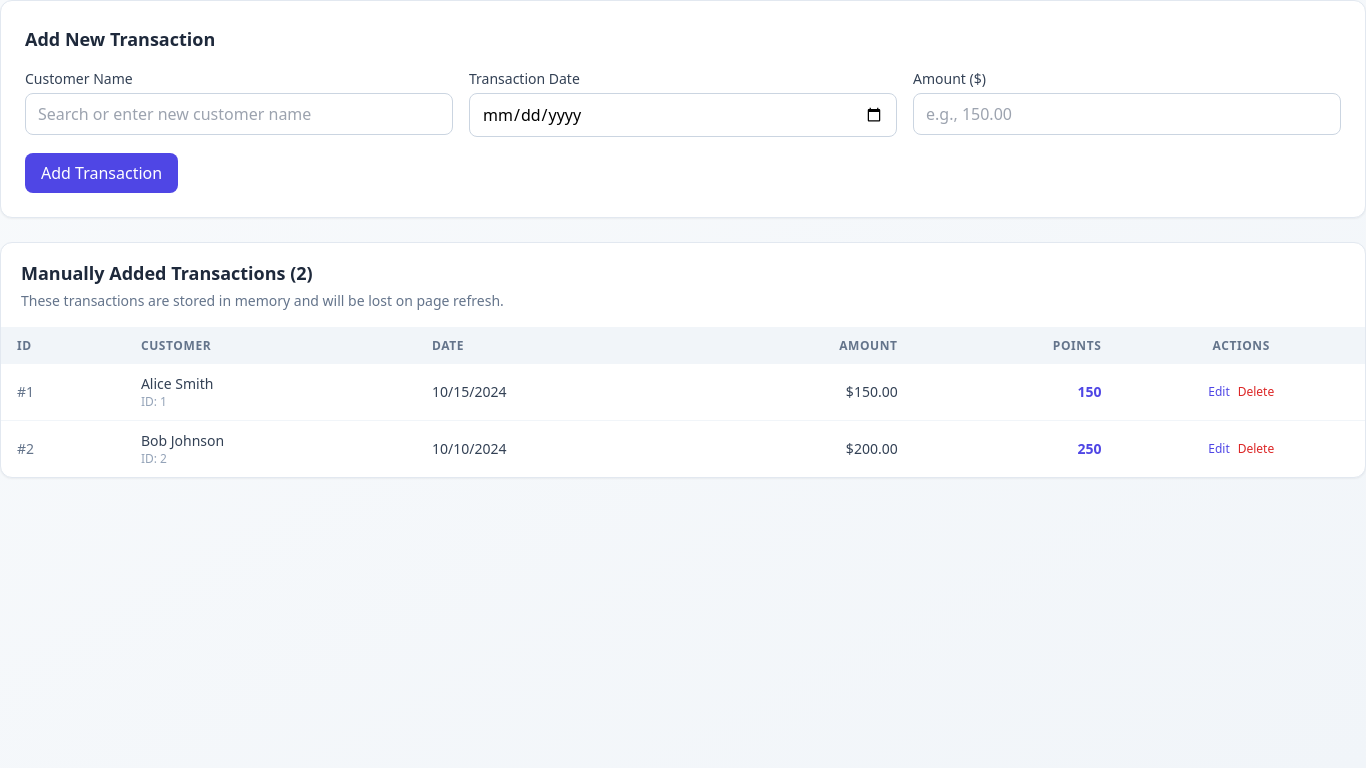
Test: Admin › deleting transactions › cancels edit mode when the edited transaction is deleted
Click the button with aria-label "Edit transaction 1": [1219, 392] box [1208, 384, 1230, 400]
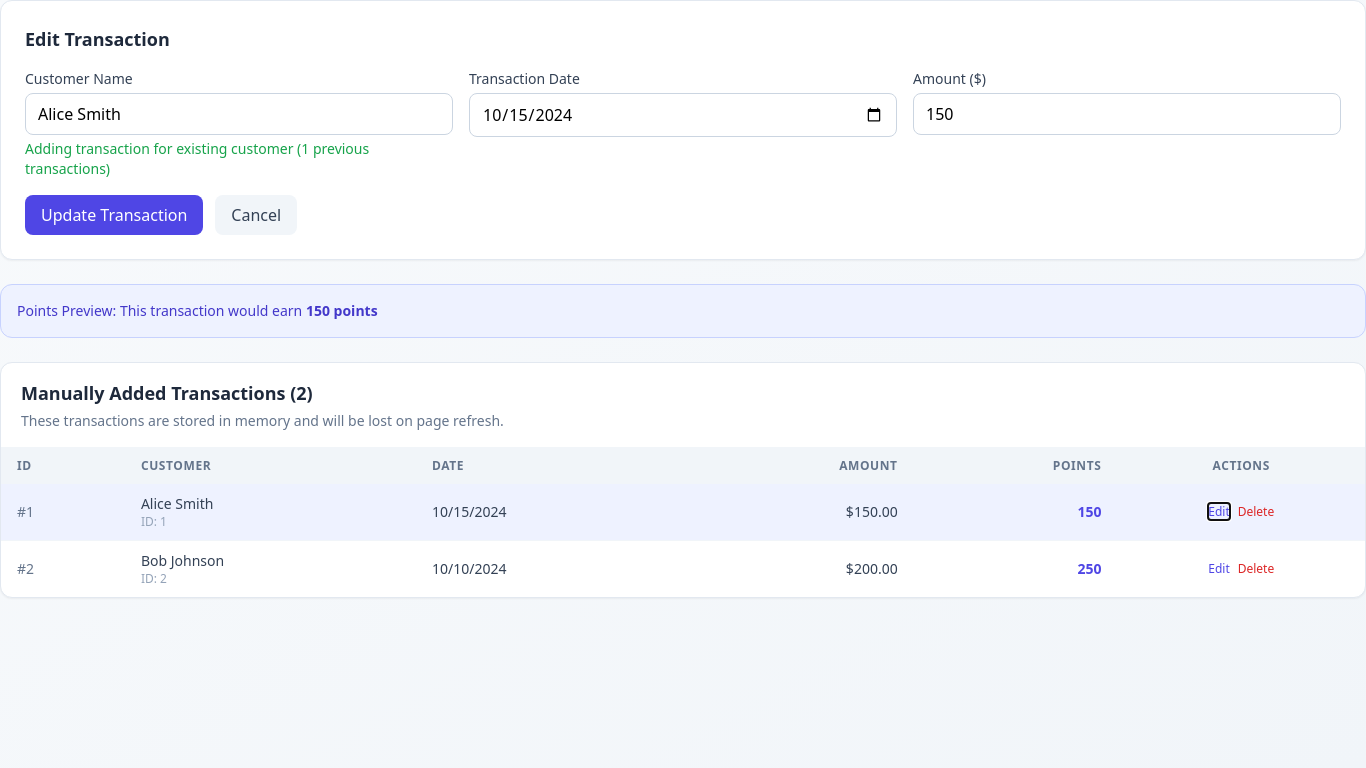
Expected: the heading "Edit Transaction" is shown, [25, 27, 170, 51]
Click the button with aria-label "Delete transaction 1": [1256, 512] box [1238, 504, 1274, 520]
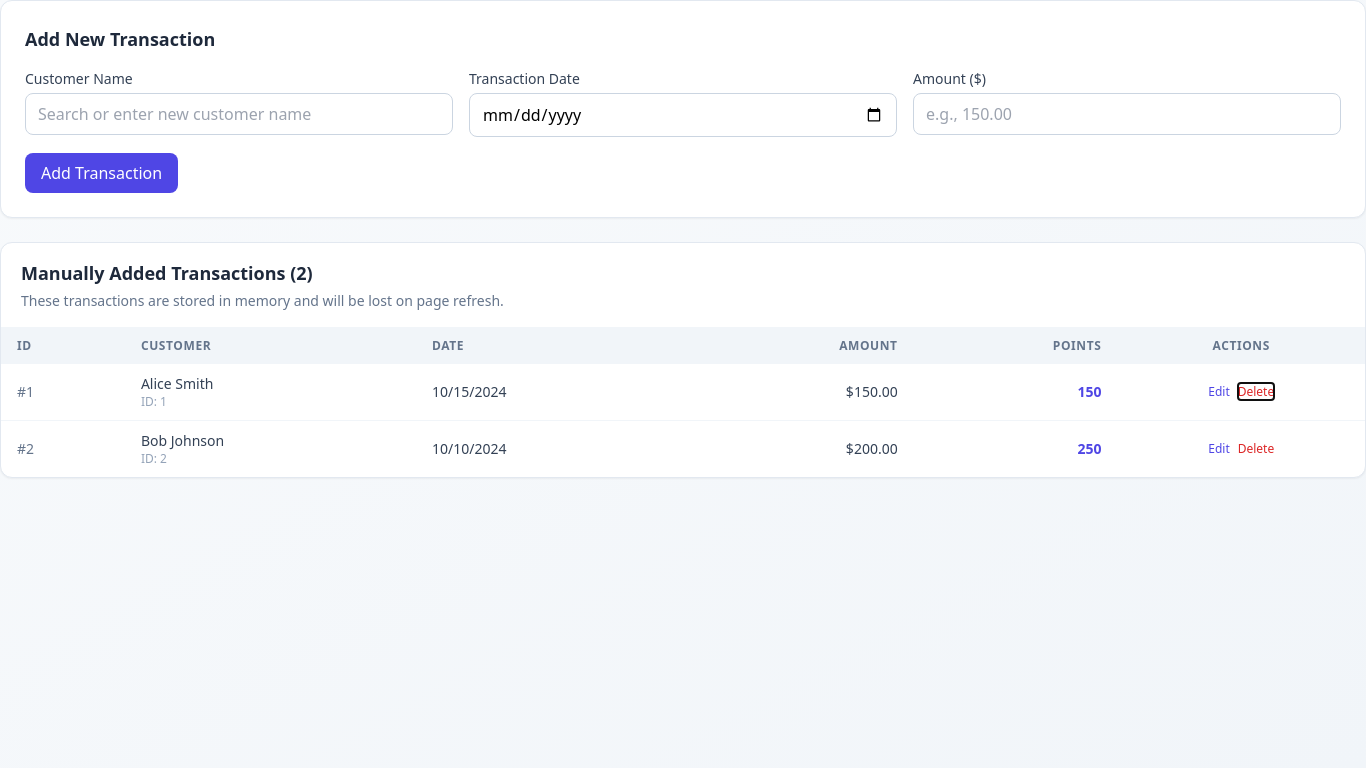
Expected: the heading "Add New Transaction" is shown, [25, 27, 215, 51]
